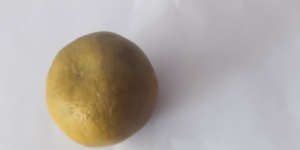BAD: (43, 28, 161, 150)
